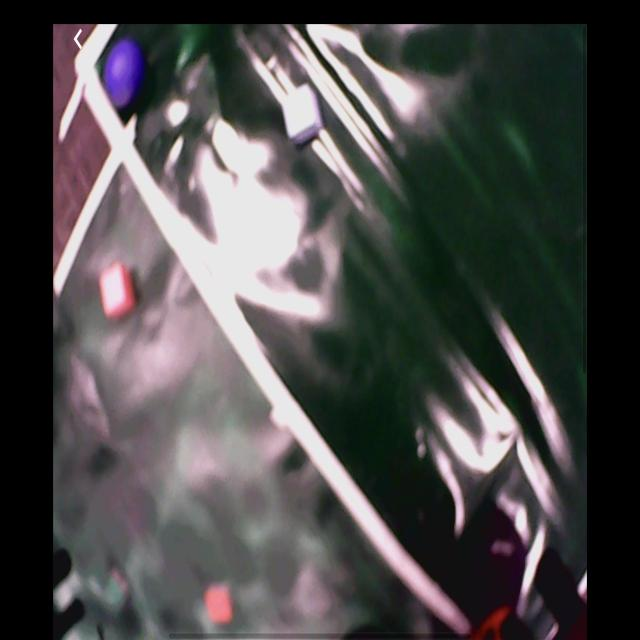ball: (104, 38, 145, 109)
